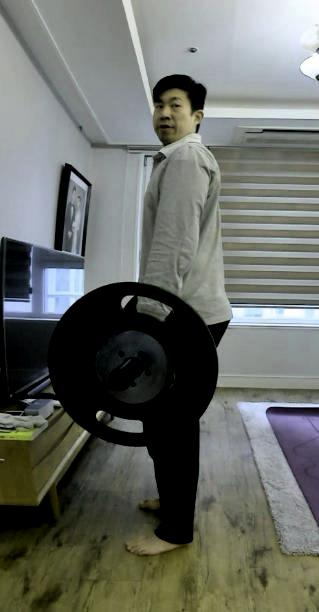Barbell: (106, 368, 133, 393)
